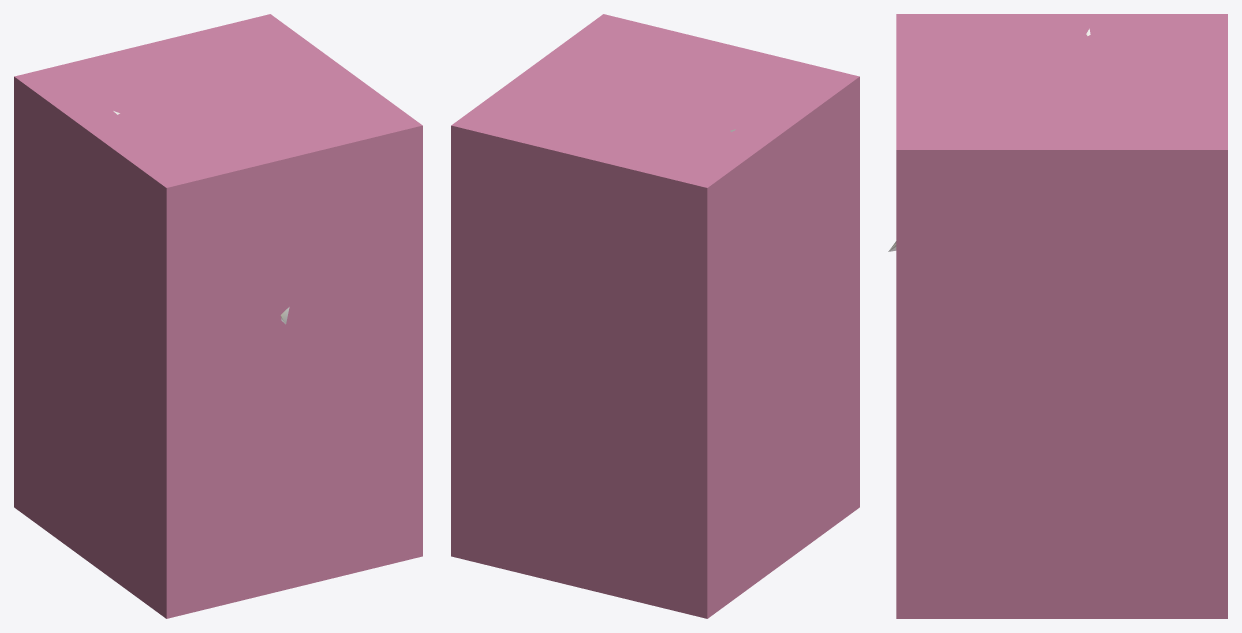
File: tree_palm_c.dae
3 renders of one model, left to right at view 1: azimuth 30°, elevation 25°; view 2: azimuth 150°, elevation 25°; view 3: azimuth 270°, elevation 25°, orthographic. The views are drawn at different scales.
Parts seen in each view (by area): view 1: Untitled; view 2: Untitled; view 3: Untitled.
Part boxes in pixels (box(x1,y1,x2,y2)): Untitled: box(14, 14, 422, 618); Untitled: box(451, 14, 859, 618); Untitled: box(896, 14, 1227, 618).
Size of the model in its own units: 6.7 by 7.07 by 10.86.
